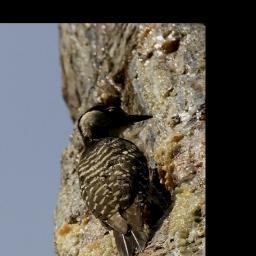Woodpecker: (77, 102, 173, 256)
